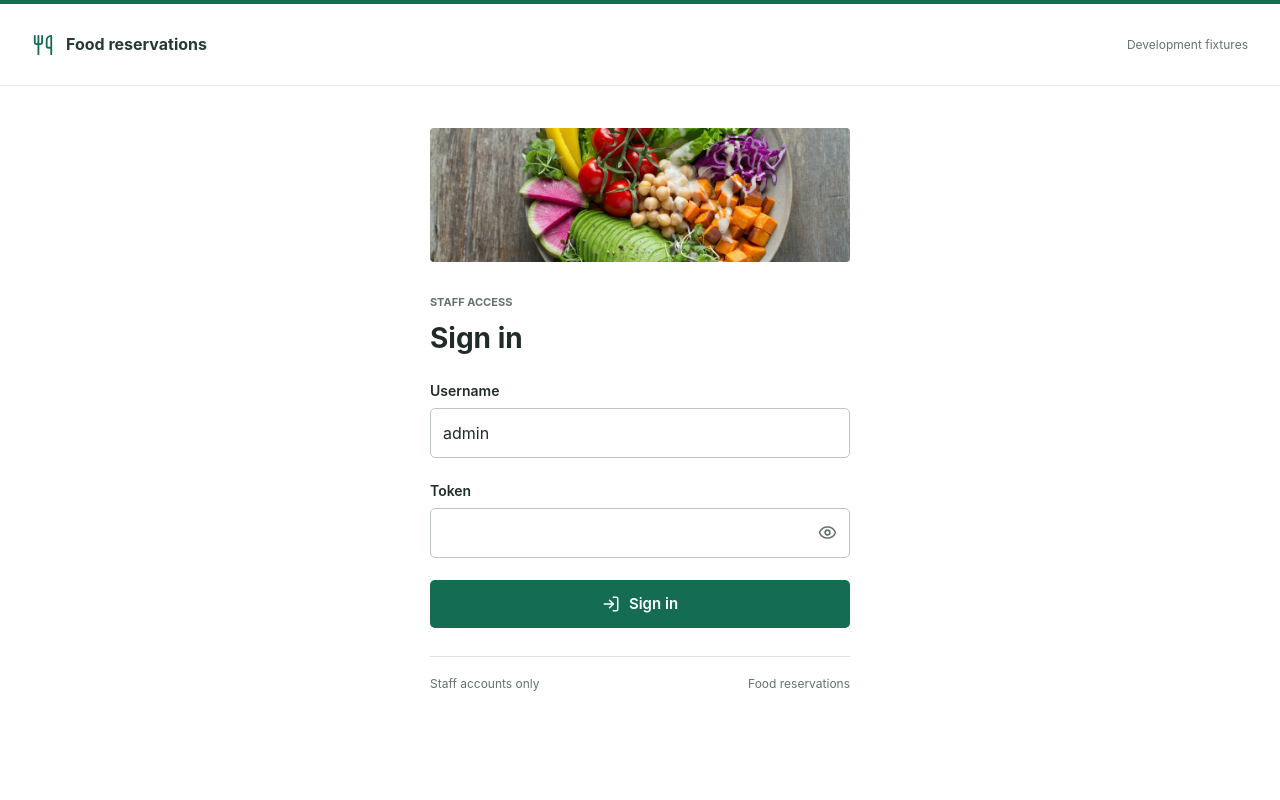
Test case: recipe and ingredient estimate workflow › links every variant to its recipe from Menu & Recipes and marks a variant without one as incomplete
Type "local-admin-token" into the password field labelled "Token" at {"x": 618, "y": 532}, box [431,508,805,556]
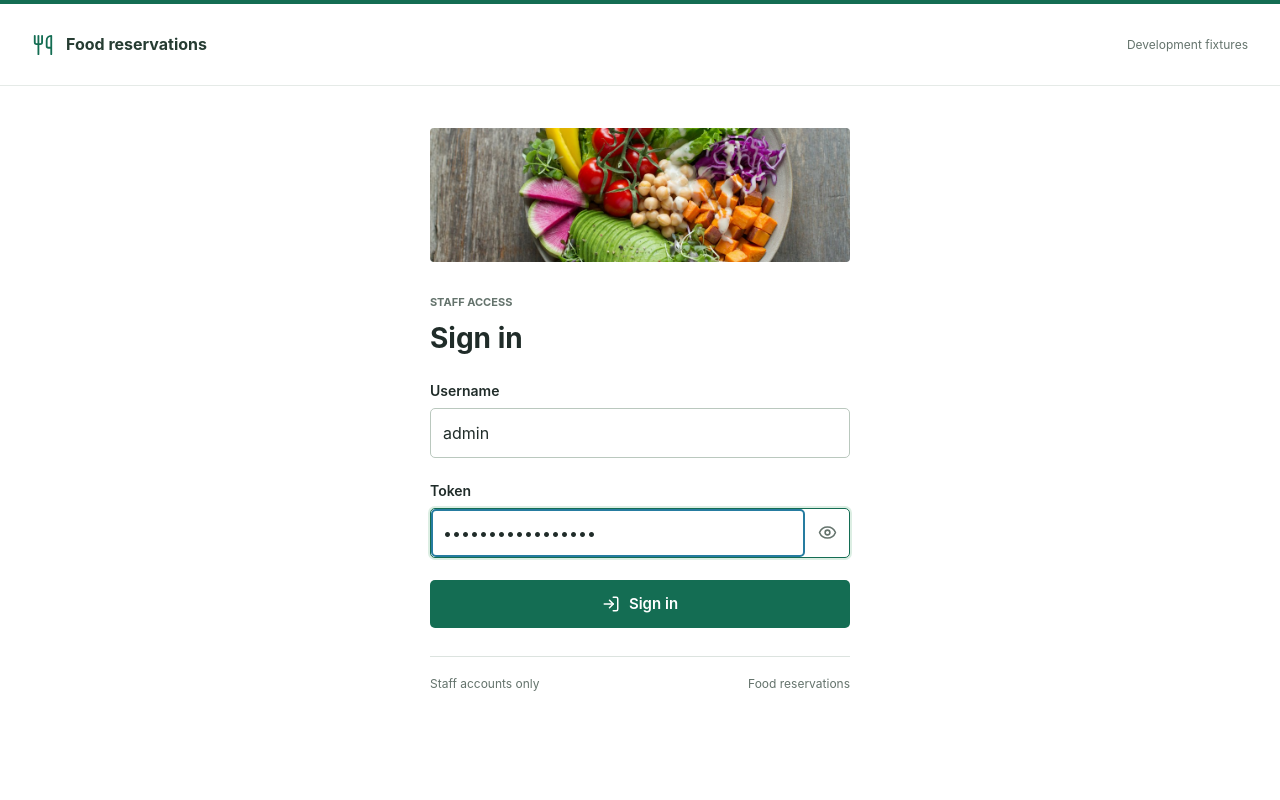
Click the button "Sign in" at {"x": 640, "y": 604}, box [430,580,850,628]
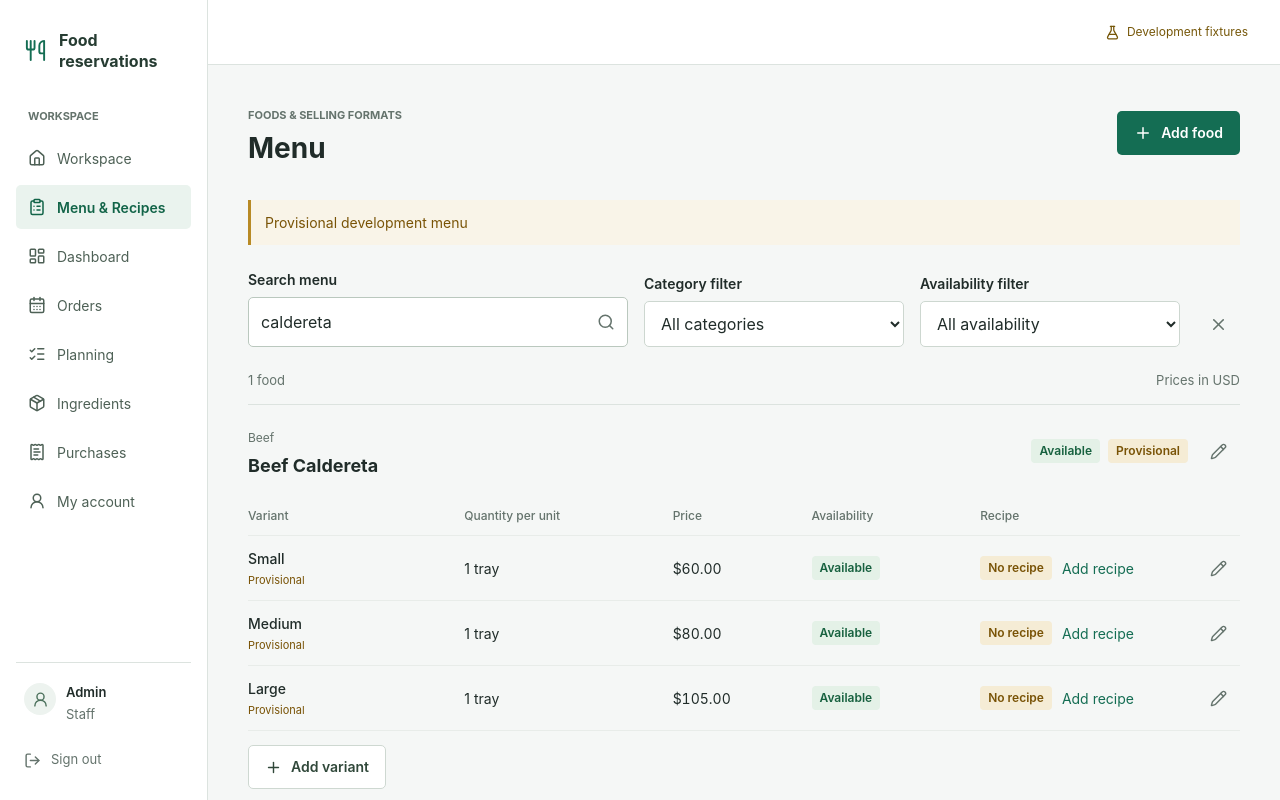
Expected: the link "Menu & Recipes" is shown, [16,185,191,229]
Expected: the text "No recipe" is shown 3 times, [980,556,1052,580]; [980,621,1052,645]; [980,686,1052,710]
Click the link with aria-label "Add recipe for Medium of Beef Caldereta" at {"x": 1098, "y": 633}, box [1062,624,1134,642]
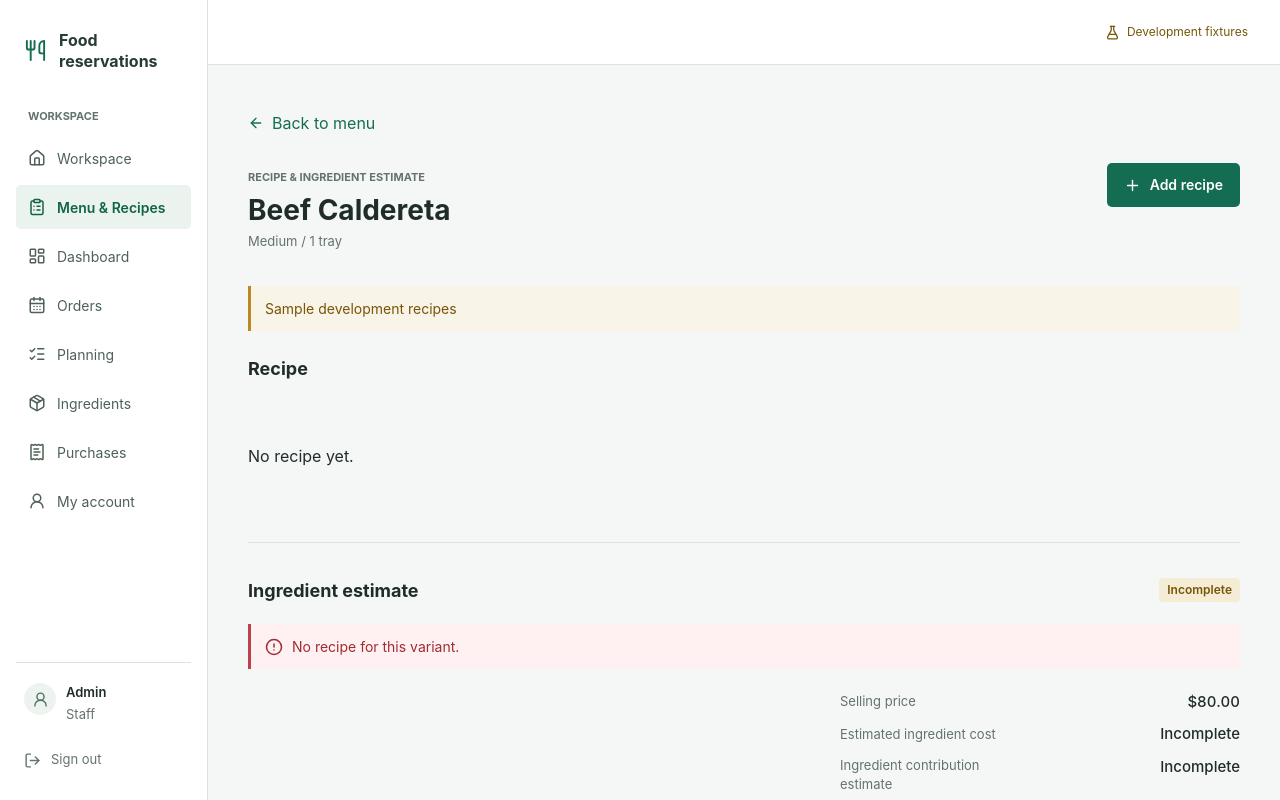
Expected: the heading "Beef Caldereta" is shown, [248,192,451,228]
Expected: the text "Medium / 1 tray" is shown, [248,232,342,248]
Expected: the text "No recipe yet." is shown, [248,446,354,466]
